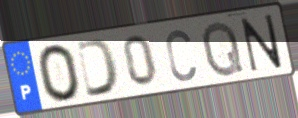0: (121, 33, 161, 89)
C: (164, 28, 198, 84)
D: (74, 36, 121, 100)
N: (239, 12, 285, 74)
O: (35, 42, 83, 105)
Q: (200, 19, 247, 80)
